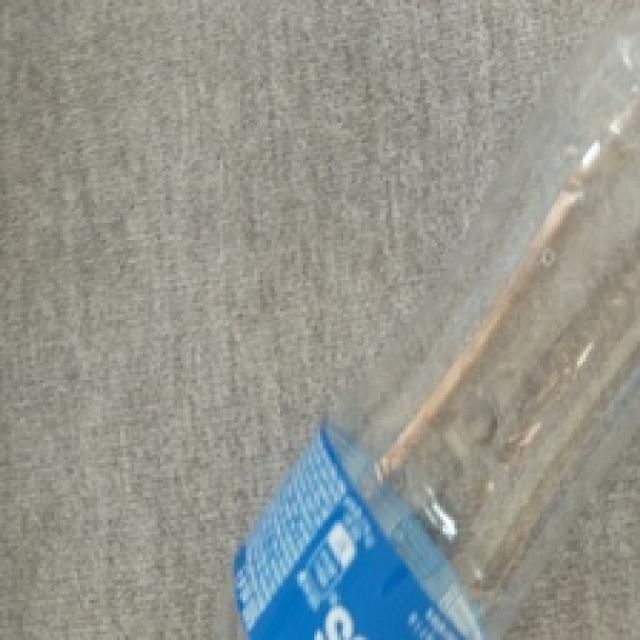Plastic: (223, 0, 640, 640)
